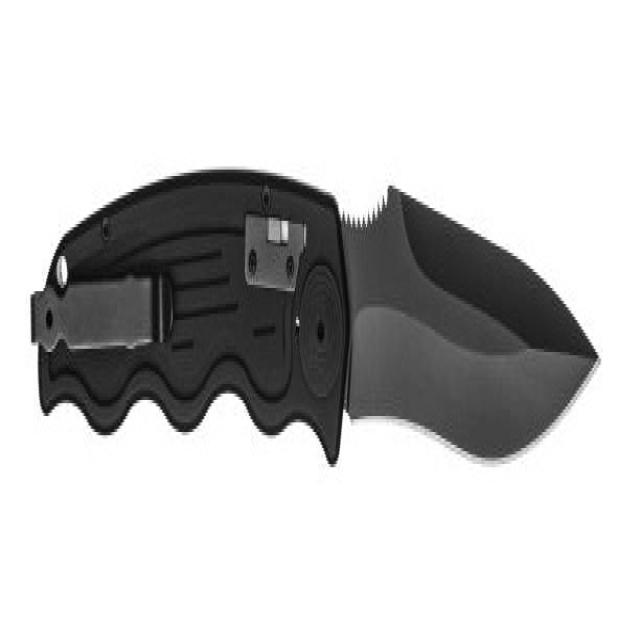knife: (28, 148, 611, 494)
